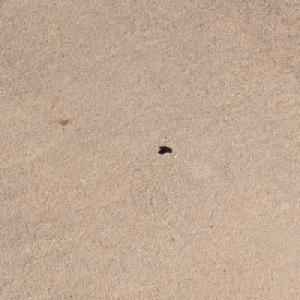BoltWasher: (156, 145, 169, 153)
